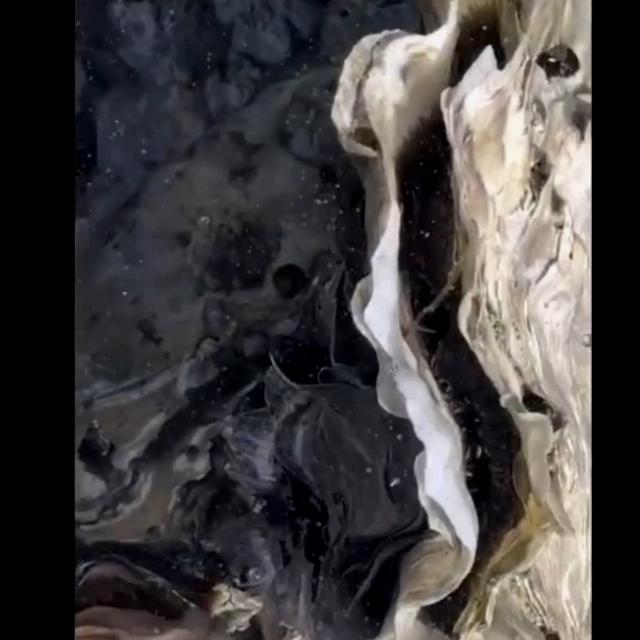Oyster-Open: (330, 0, 596, 640), (70, 62, 362, 526)
